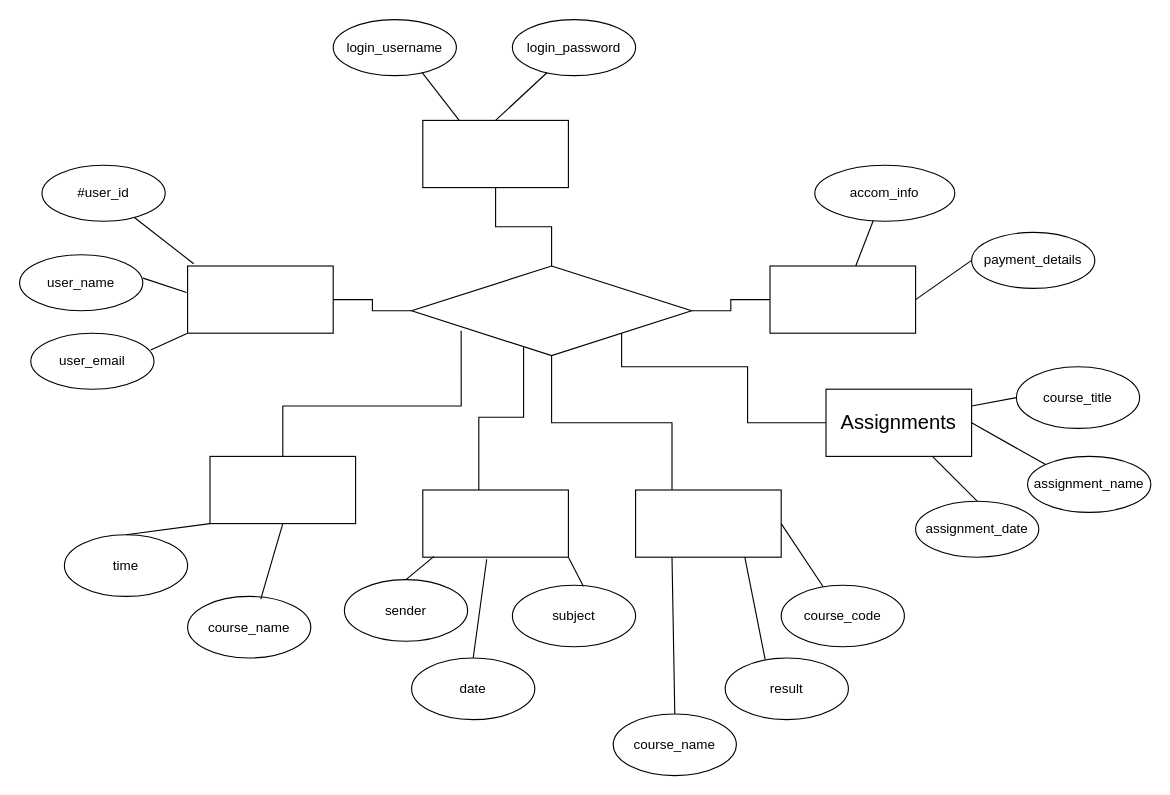
The diagram is 1170 pixels wide and 795 high, and some of its shapes have lost their labels. Each missing label, with the centre of its shape:
"Accommodation" belongs at point 842,299.
"Estudy" belongs at point 707,523.
"Inbox" belongs at point 495,523.
"Login" belongs at point 495,153.
"Manage" belongs at point 551,310.
"Timetable" belongs at point 282,489.
"User" belongs at point 259,299.
